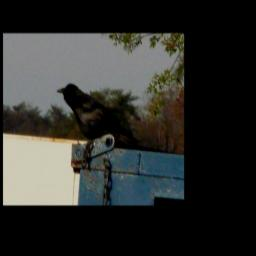Crow: (56, 82, 138, 147)
